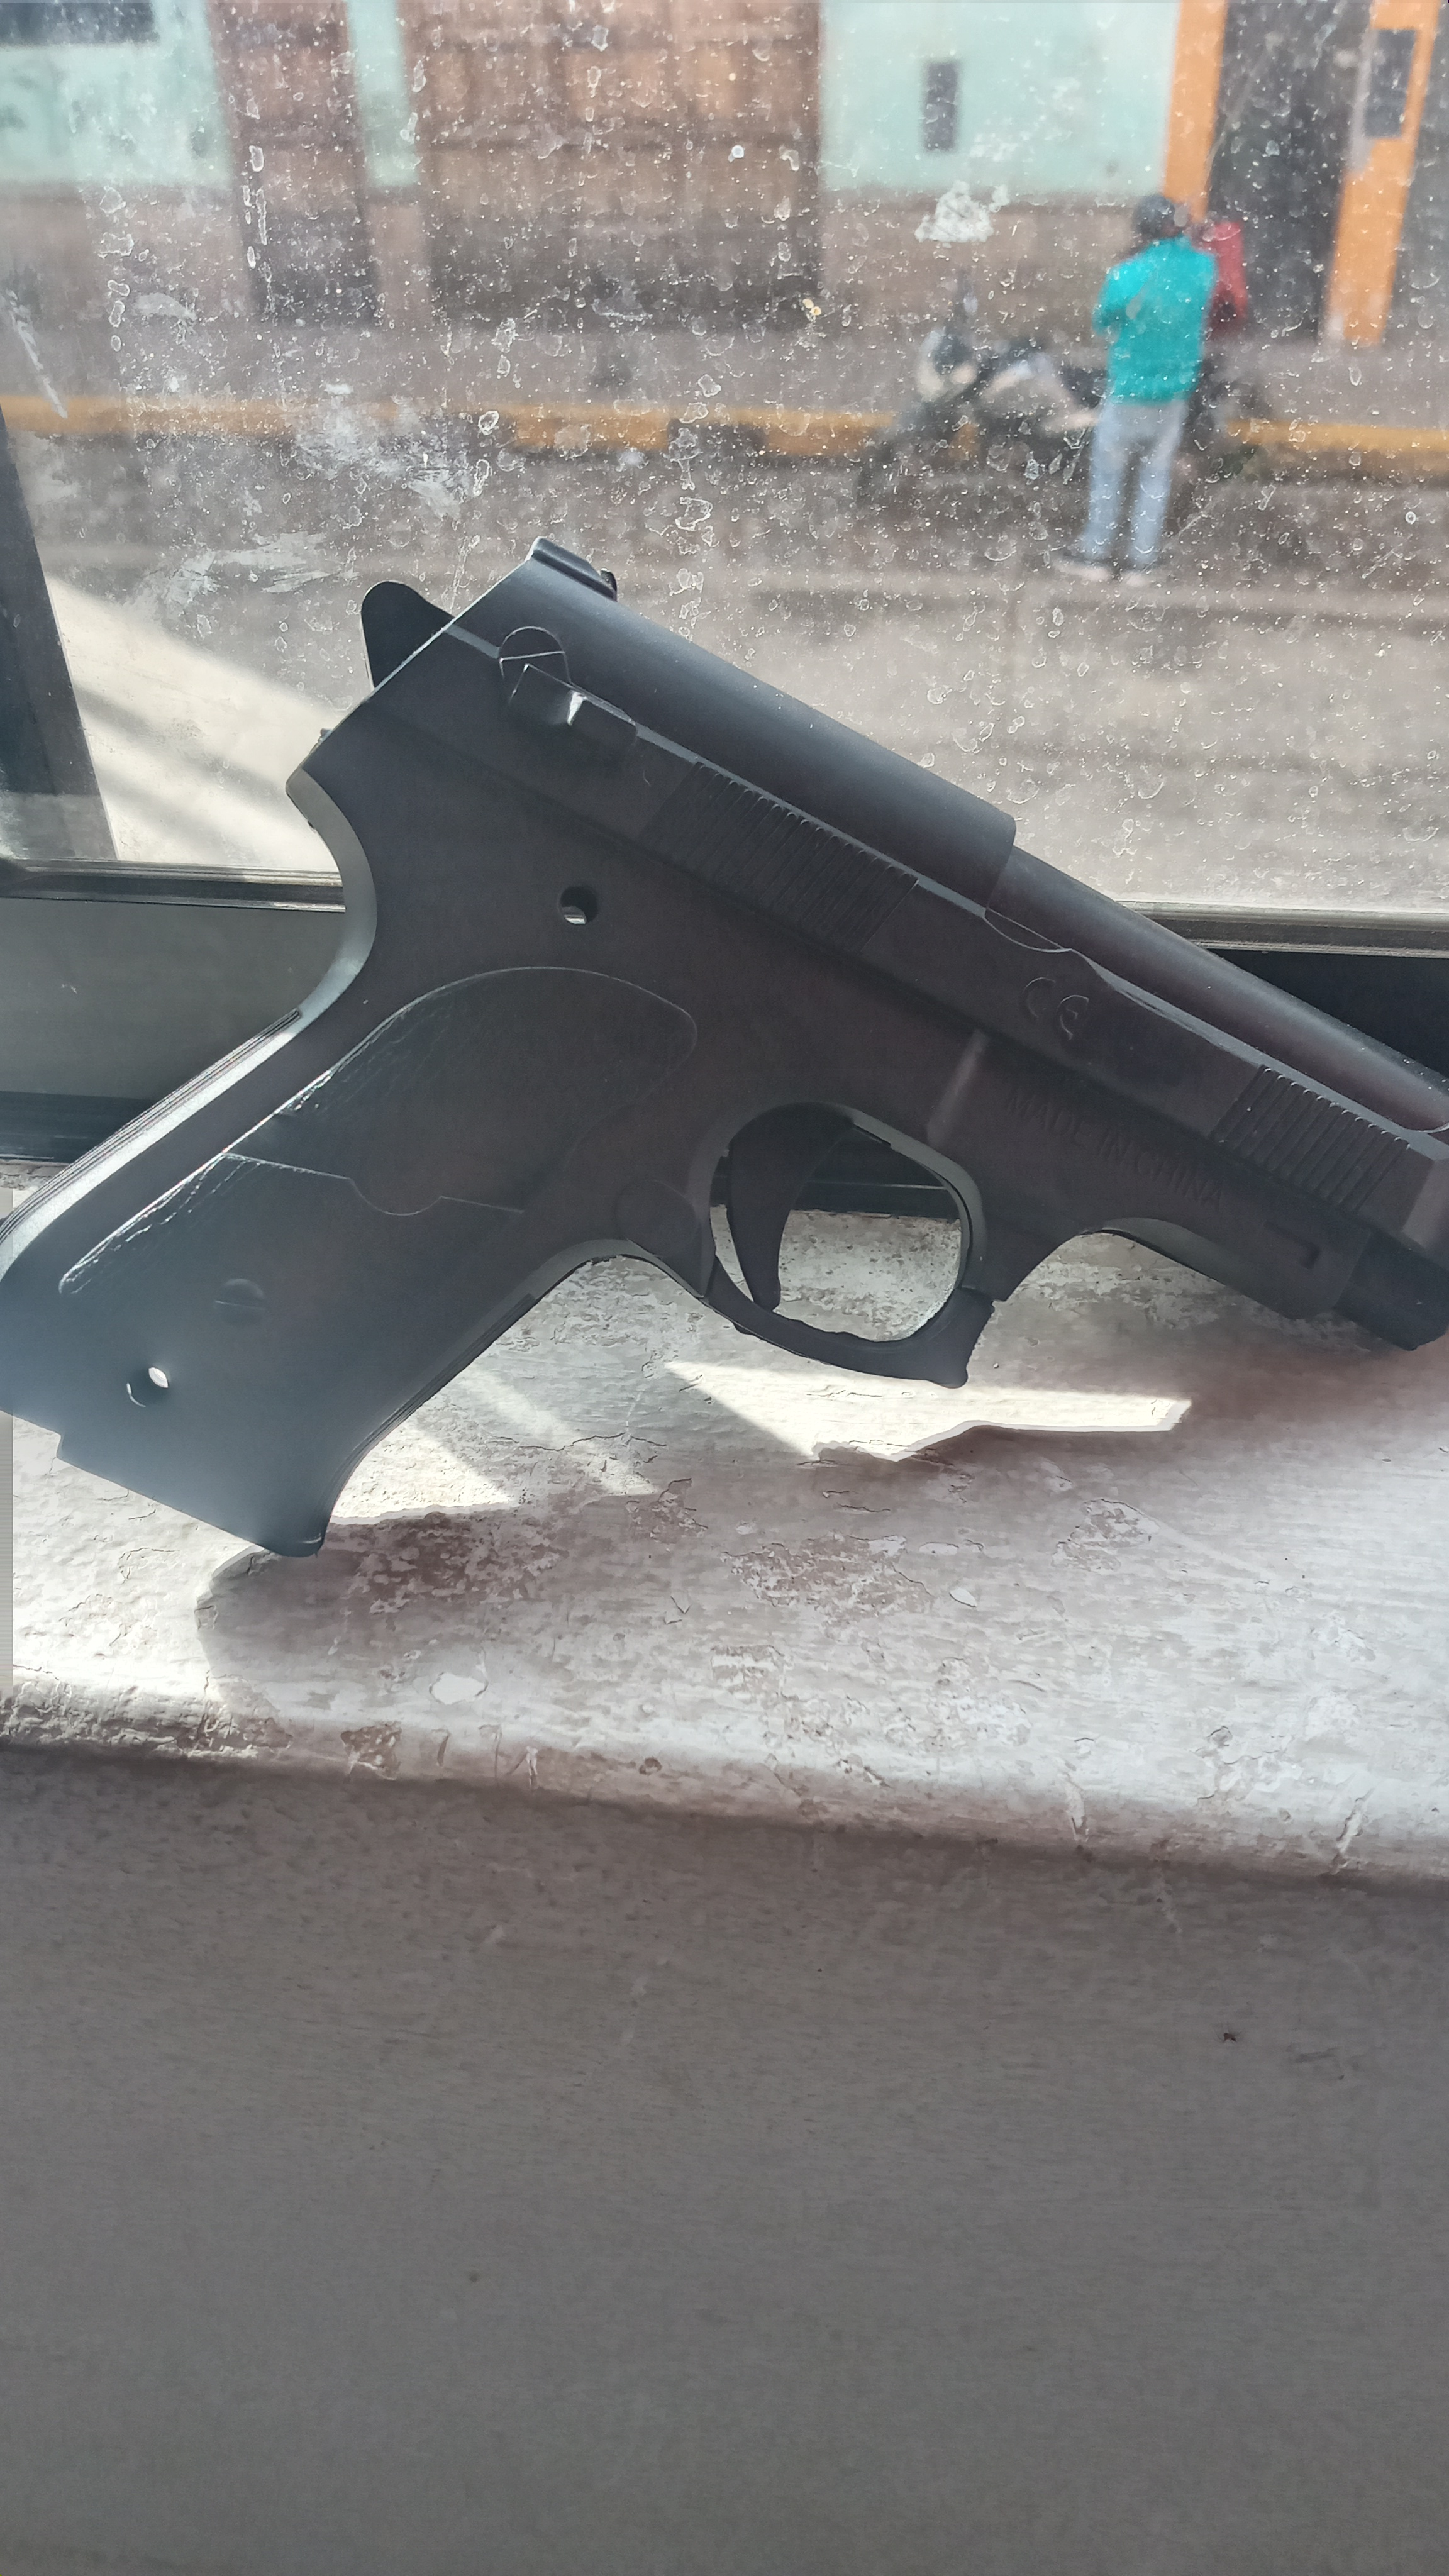Arma: (203, 577, 1394, 1453)
